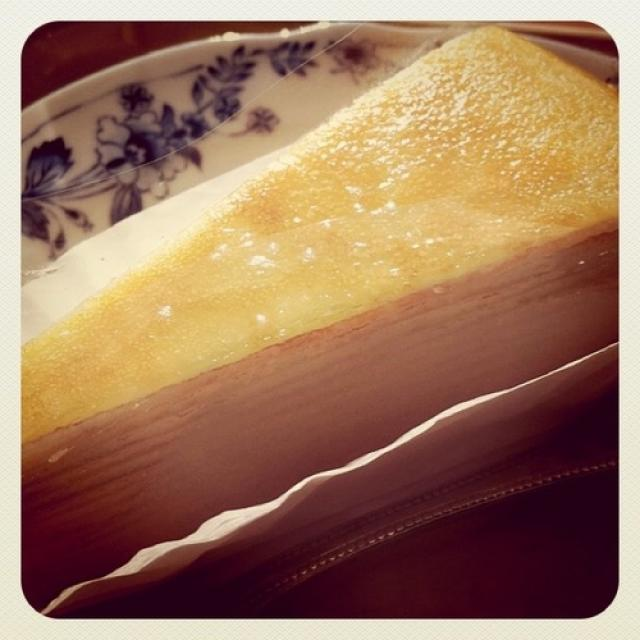牛肉菜式: (64, 64, 589, 521)
